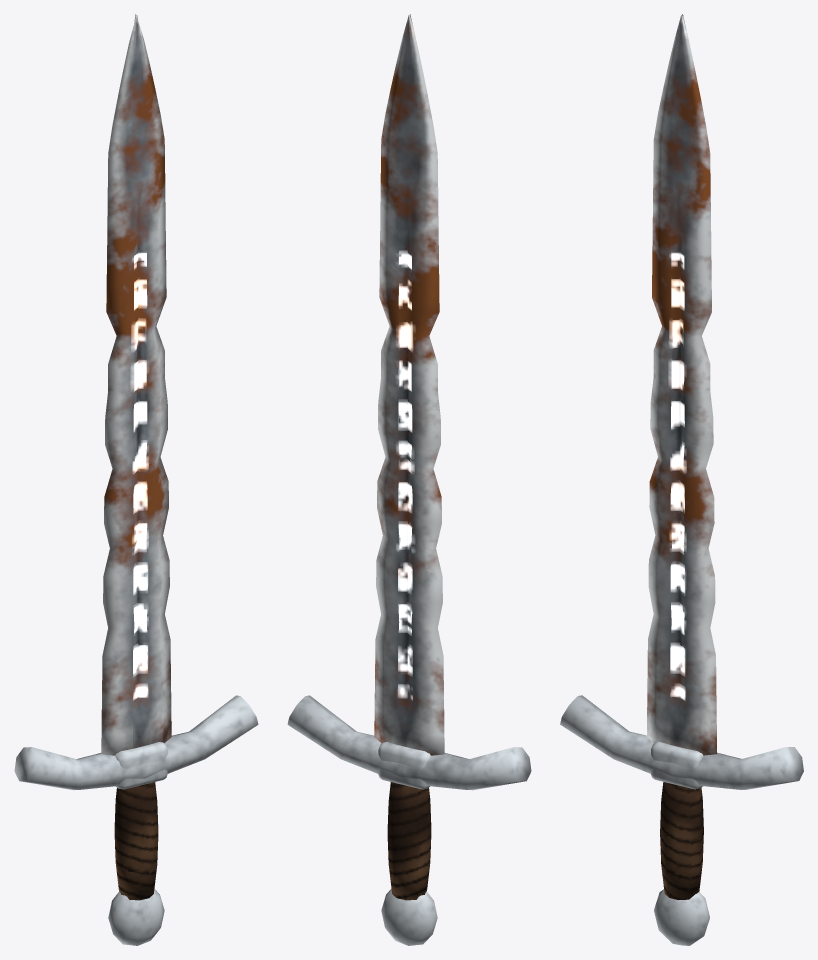
File: RustySword.fbx
The picture shows the model from 3 angles, left to right: view 1: azimuth 30°, elevation 25°; view 2: azimuth 150°, elevation 25°; view 3: azimuth 330°, elevation 25°; orthographic projection.
Parts seen in each view (by area): view 1: RustySword; view 2: RustySword; view 3: RustySword.
Part boxes in pixels (<box>): RustySword: <box>14,14,258,945</box>; RustySword: <box>287,14,531,945</box>; RustySword: <box>560,14,803,945</box>.
Bounding box in the file's own units: 0.2329 × 0.8829 × 0.0364.
